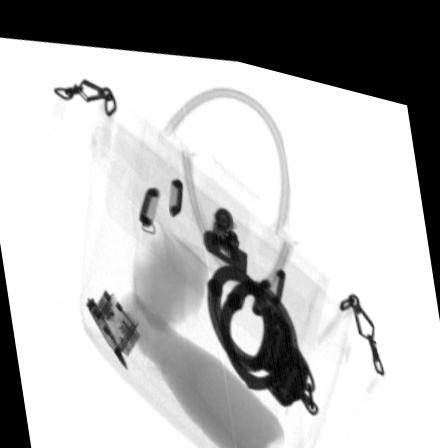Bullet: (85, 292, 128, 362)
HandCuffs: (204, 252, 319, 398)
